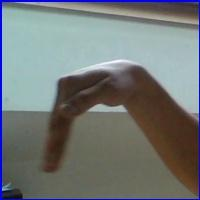A: (31, 52, 173, 181)
